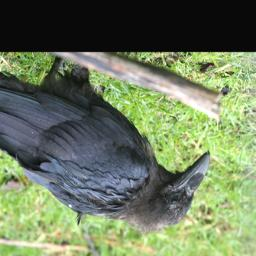Crow: (0, 53, 213, 233)
